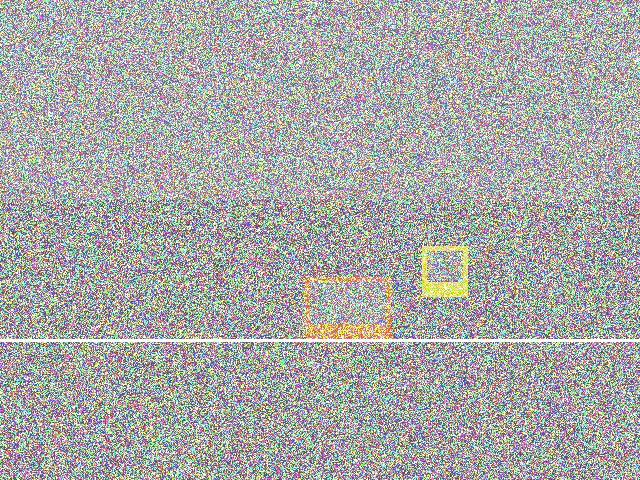bus: (22, 349, 186, 438)
car: (190, 189, 338, 281)
truck: (75, 360, 245, 480)
